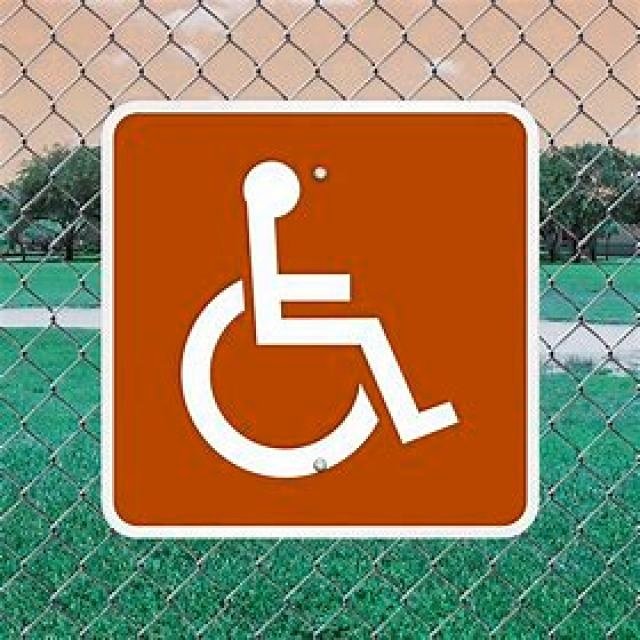ISA: (179, 160, 464, 483)
